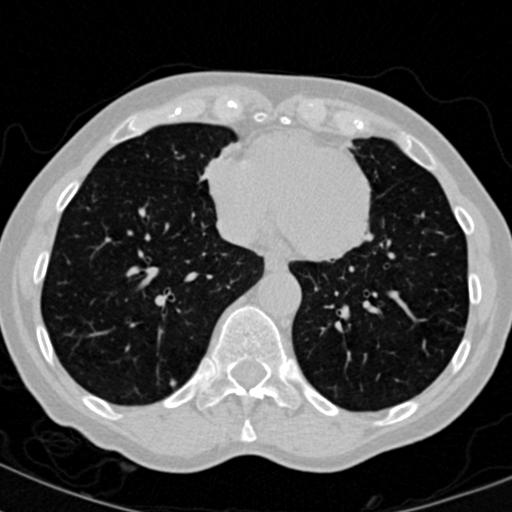nodule: (167, 377, 179, 389)
